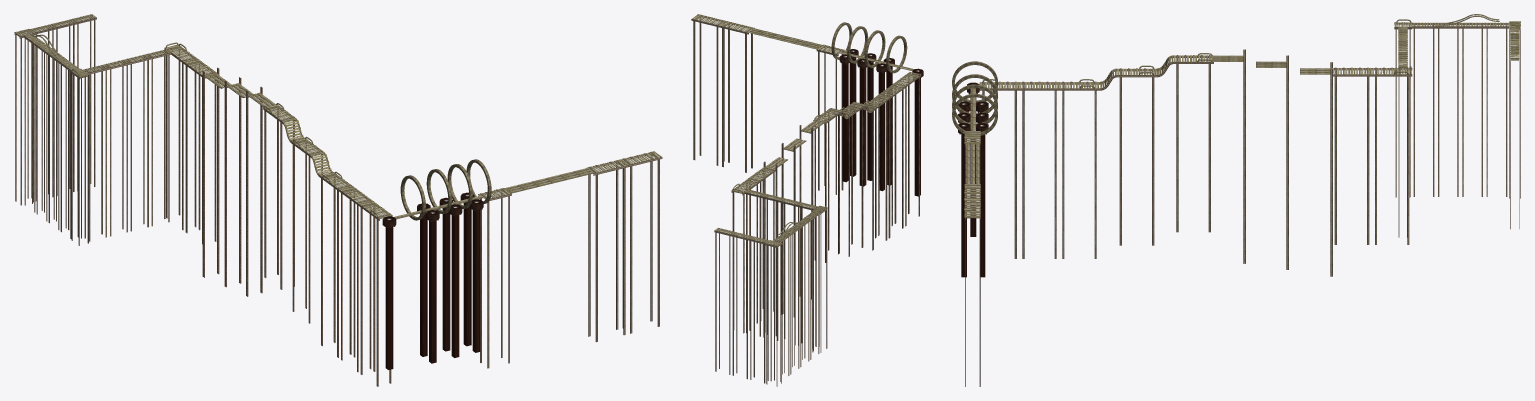
3 views of the same model, side by side, from view 1: azimuth 30°, elevation 25°; view 2: azimuth 150°, elevation 25°; view 3: azimuth 270°, elevation 25° (orthographic). The views are drawn at different scales.
Parts seen in each view (by area): view 1: Ramp_001__32_, Ramp_001__33_, Ramp_001__36_, Ramp_001__40_, Ramp_001__37_, Ramp_001__41_, Ramp_001__35_, Ramp_001__39_, Ramp_001__34_, Ramp_001__38_, Ramp_001__35__1, Ramp_001__37__1 (+21 smaller); view 2: Ramp_001__33_, Ramp_001__36_, Ramp_001__35_, Ramp_001__32_, Ramp_001__37_, Ramp_001__39_, Ramp_001__42_, Ramp_001__37__1, Ramp_001__38_, Ramp_001__34_, Ramp_001__41__1, Ramp_001__41_ (+25 smaller); view 3: Ramp_001__38_, Ramp_001__36_, Ramp_001__40_, Ramp_001__37_, Ramp_001__39_, Ramp_001__41_, hakkero__7_, Ramp_001__39__1, Ramp_001__40__1, Ramp_001__37__1, Ramp_001__38__1, Ramp_001__33_ (+7 smaller).
Boxes of the visible parts, left/top/right/bottom form: Ramp_001__32_: left=586, top=159, right=628, bottom=342; Ramp_001__33_: left=620, top=151, right=662, bottom=333; Ramp_001__36_: left=339, top=186, right=372, bottom=372; Ramp_001__40_: left=184, top=59, right=217, bottom=244; Ramp_001__37_: left=319, top=172, right=352, bottom=357; Ramp_001__41_: left=164, top=44, right=197, bottom=230; Ramp_001__35_: left=359, top=201, right=392, bottom=386; Ramp_001__39_: left=263, top=104, right=296, bottom=289; Ramp_001__34_: left=478, top=188, right=511, bottom=368; Ramp_001__38_: left=291, top=138, right=324, bottom=323; Ramp_001__35__1: left=83, top=64, right=108, bottom=241; Ramp_001__37__1: left=60, top=60, right=79, bottom=239; Ramp_001__33_: left=691, top=14, right=726, bottom=165; Ramp_001__36_: left=877, top=84, right=904, bottom=238; Ramp_001__35_: left=893, top=72, right=920, bottom=226; Ramp_001__32_: left=720, top=21, right=754, bottom=172; Ramp_001__37_: left=861, top=96, right=888, bottom=250; Ramp_001__39_: left=813, top=108, right=840, bottom=262; Ramp_001__42_: left=749, top=236, right=769, bottom=383; Ramp_001__37__1: left=803, top=211, right=819, bottom=359; Ramp_001__38_: left=837, top=102, right=864, bottom=256; Ramp_001__34_: left=816, top=44, right=844, bottom=194; Ramp_001__41__1: left=765, top=240, right=782, bottom=386; Ramp_001__41_: left=731, top=179, right=758, bottom=333; Ramp_001__38_: left=1116, top=68, right=1157, bottom=245; Ramp_001__36_: left=1019, top=81, right=1059, bottom=258; Ramp_001__40_: left=1332, top=67, right=1372, bottom=244; Ramp_001__37_: left=1059, top=81, right=1099, bottom=258; Ramp_001__39_: left=1173, top=55, right=1213, bottom=232; Ramp_001__41_: left=1372, top=67, right=1412, bottom=244; hakkero__7_: left=976, top=123, right=988, bottom=277; Ramp_001__39__1: left=1460, top=22, right=1484, bottom=196; Ramp_001__40__1: left=1484, top=22, right=1508, bottom=196; Ramp_001__37__1: left=1411, top=22, right=1435, bottom=196; Ramp_001__38__1: left=1436, top=22, right=1460, bottom=196; Ramp_001__33_: left=964, top=200, right=980, bottom=386.
Size of the model in its own units: 5363 by 3051 by 7043.
